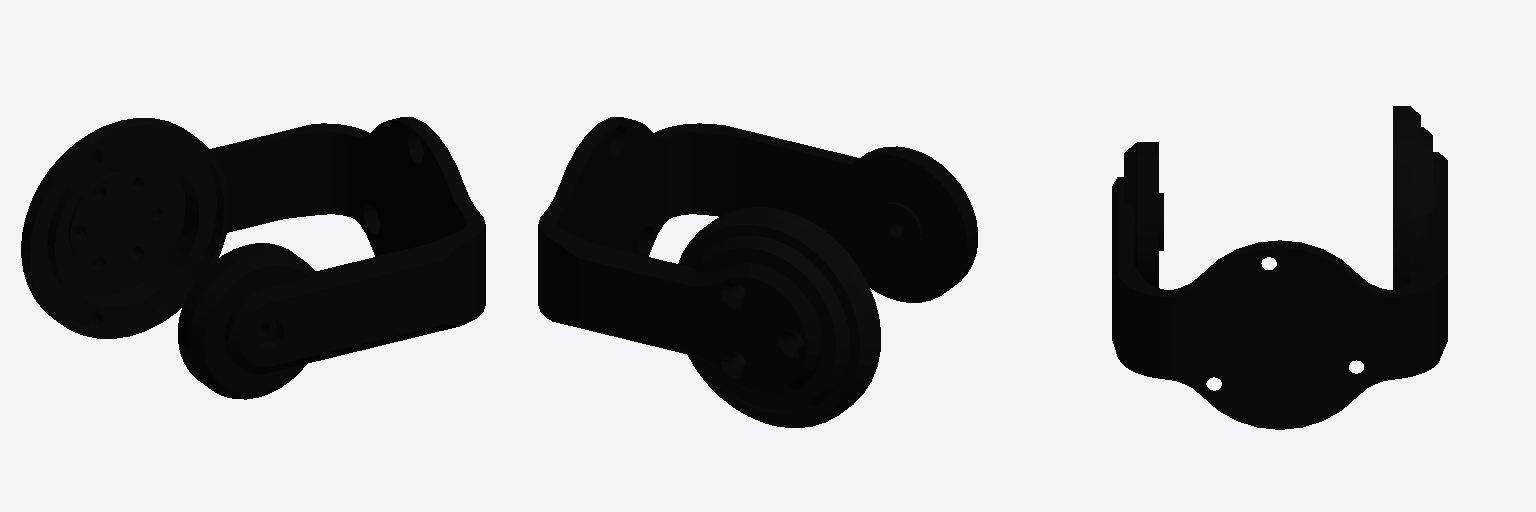
Rendered from endEffector_right.obj.
The picture shows the model from 3 angles: view 1: azimuth 30°, elevation 25°; view 2: azimuth 150°, elevation 25°; view 3: azimuth 270°, elevation 25°; orthographic projection.
Visible parts, largest first — view 1: wrist_yaw_right.001, wrist_yaw_right_flange.001; view 2: wrist_yaw_right.001, wrist_yaw_right_flange.001; view 3: wrist_yaw_right.001, wrist_yaw_right_flange.001.
Part boxes in pixels (x1,y1,x2,y2): wrist_yaw_right.001: (73,117,485,399); wrist_yaw_right_flange.001: (21,118,229,338); wrist_yaw_right.001: (538,117,977,395); wrist_yaw_right_flange.001: (678,207,880,427); wrist_yaw_right.001: (1112,142,1447,429); wrist_yaw_right_flange.001: (1393,106,1432,289).
Size of the model in its own units: 0.078 by 0.046 by 0.0669.